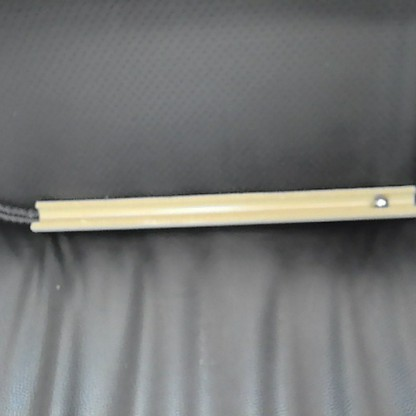ironball: (370, 190, 389, 210)
